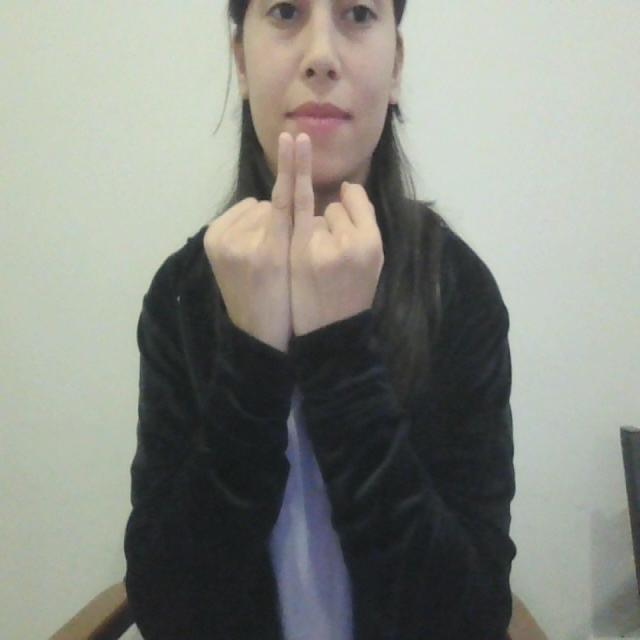Kardes: (199, 129, 387, 360)
